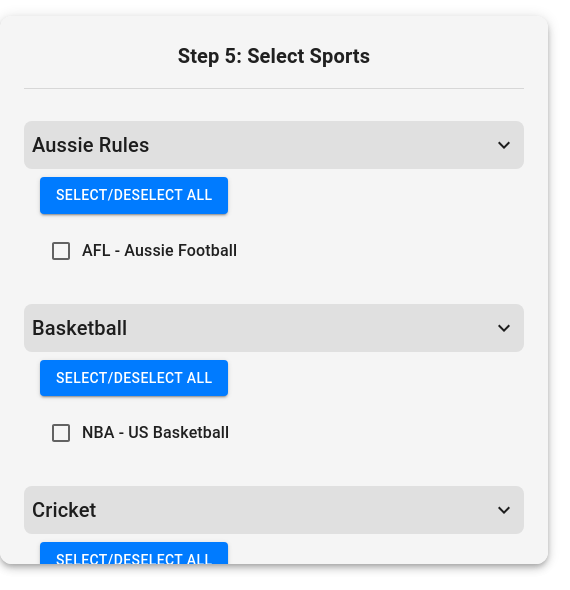
Scenario: SelectSports Component › handles group expand
Click the heading "Aussie Rules": coordinates (274, 145) [24,121,524,169]
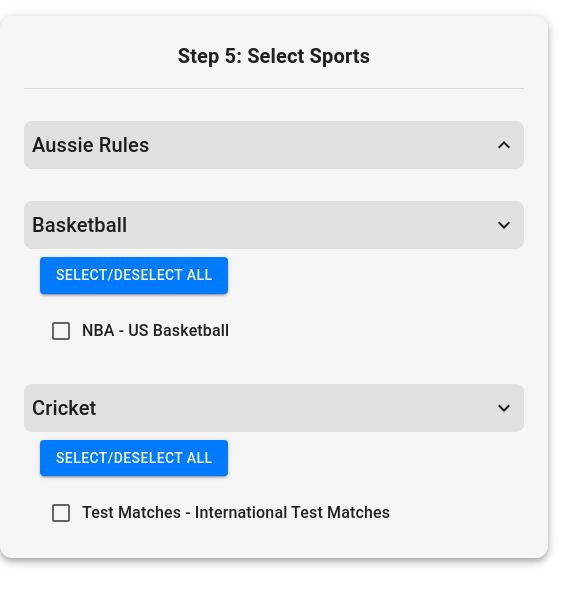
Click the heading "Aussie Rules": coordinates (274, 145) [24,121,524,169]
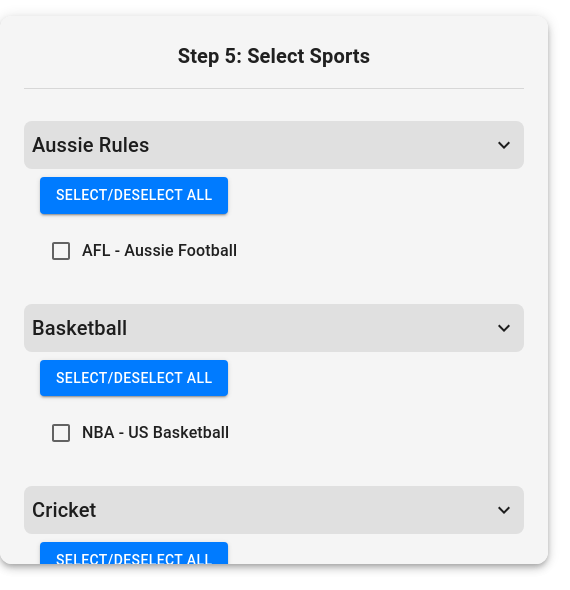
Expected: the text "AFL - Aussie Football" is shown, [82,238,237,262]
